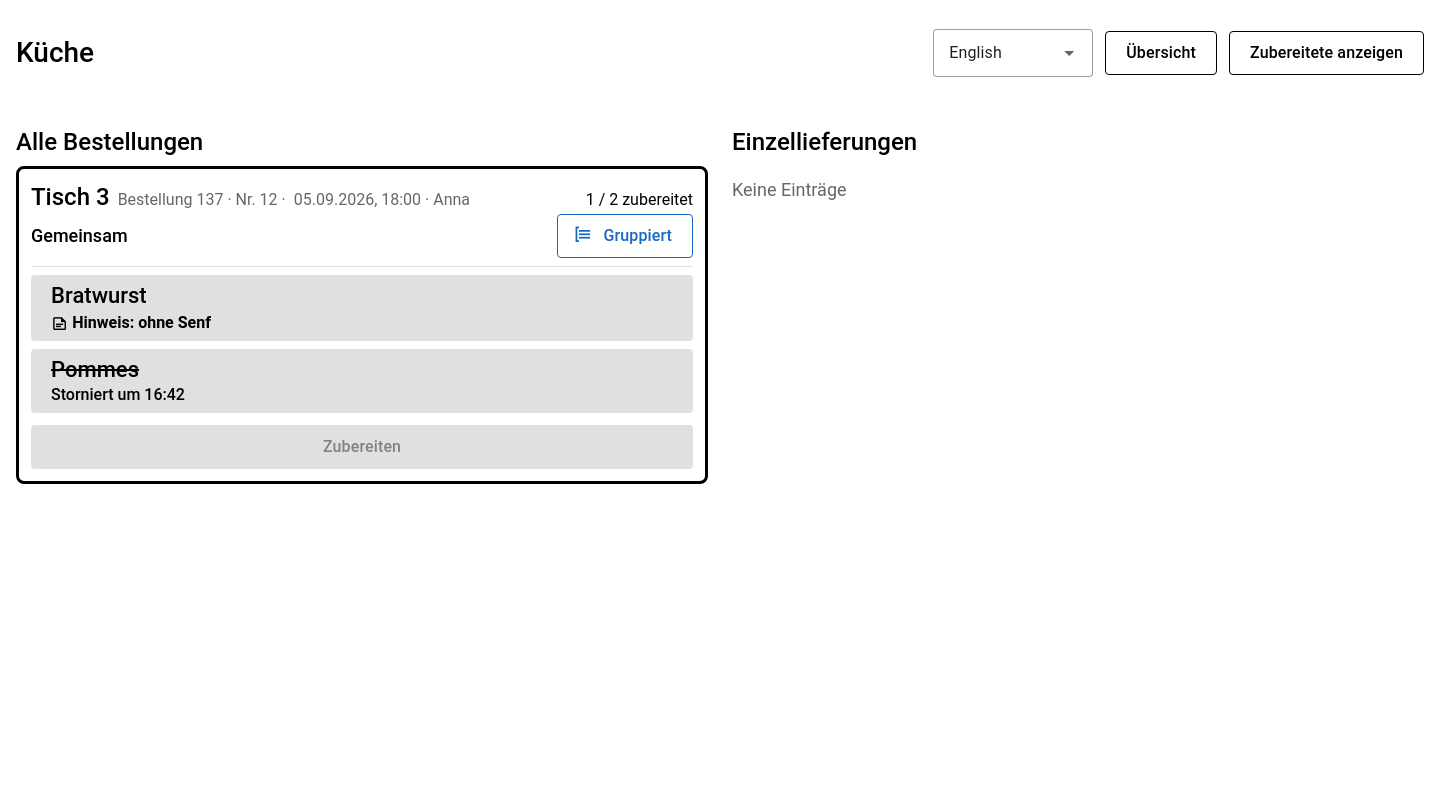
it: a card with an item a waiter cancelled while it was open › shows the refusal when the item no longer waits for a confirmation
This screenshot has width=1440, height=810.
What coordinates should you click on to do the following:
click the button "Pommes Storniert um 16:42"
I would click on:
 (362, 381)
Its box is [31,349,693,413].
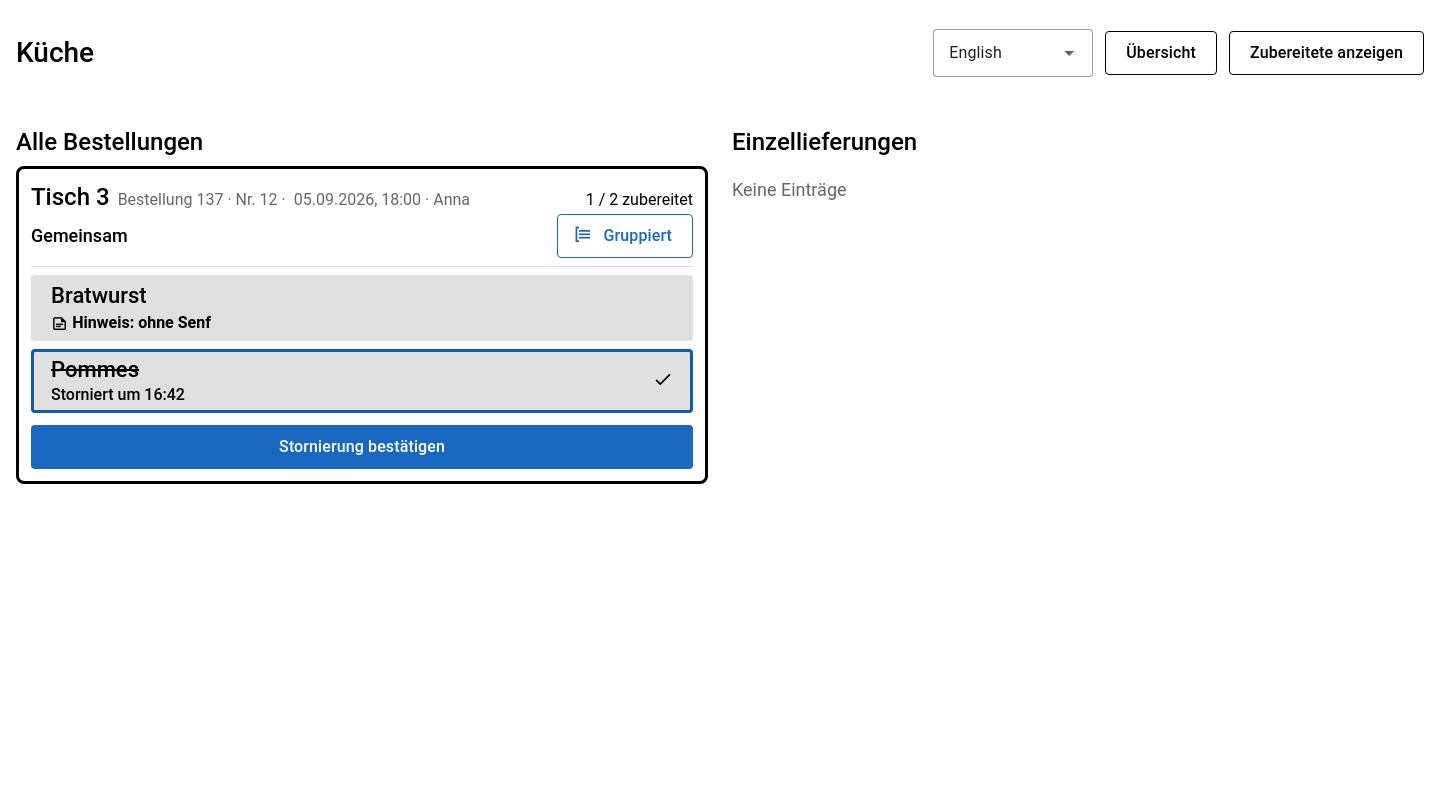
What coordinates should you click on to do the following:
click the button "Stornierung bestätigen"
I would click on:
 (362, 447)
Its box is [31,425,693,469].
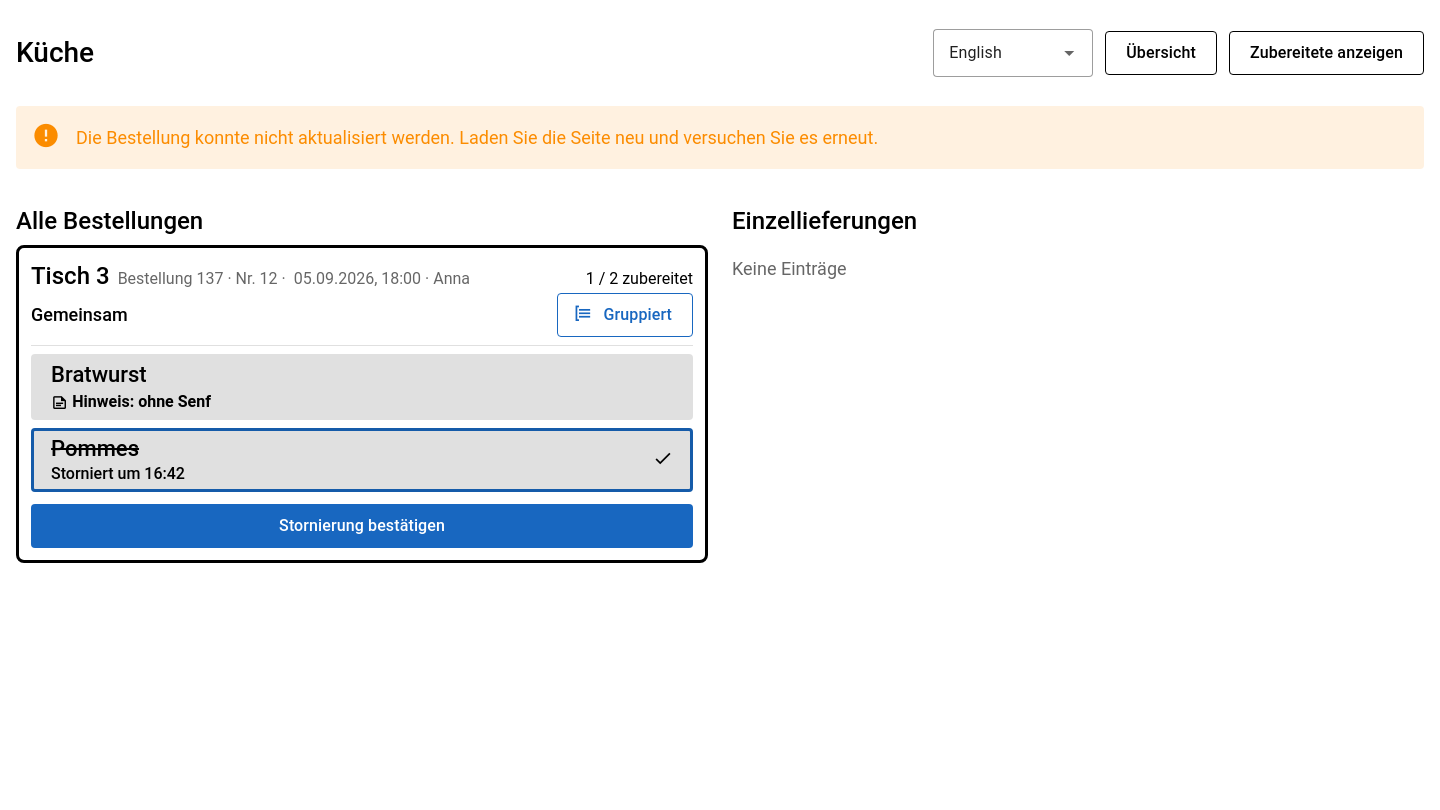
Check: the element with test id "action-failed" shows "Die Bestellung konnte nicht aktualisiert werden. Laden Sie die Seite neu und versuchen Sie es erneut.", box [76,127,878,148]
